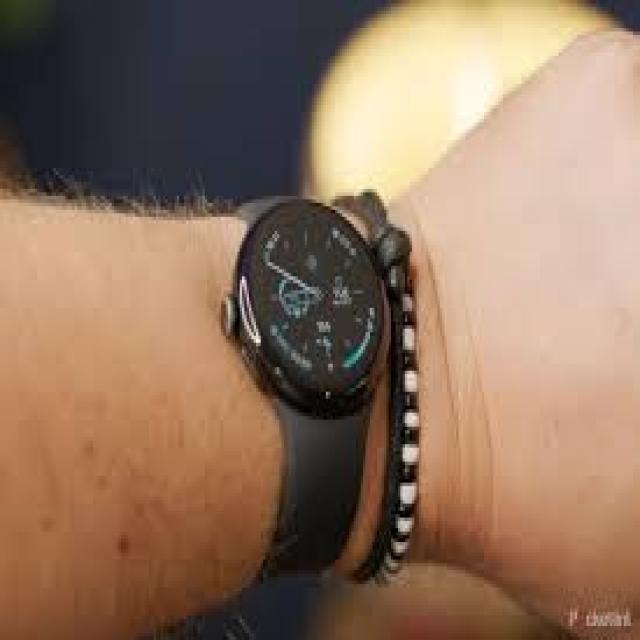objects: (223, 195, 389, 581)
